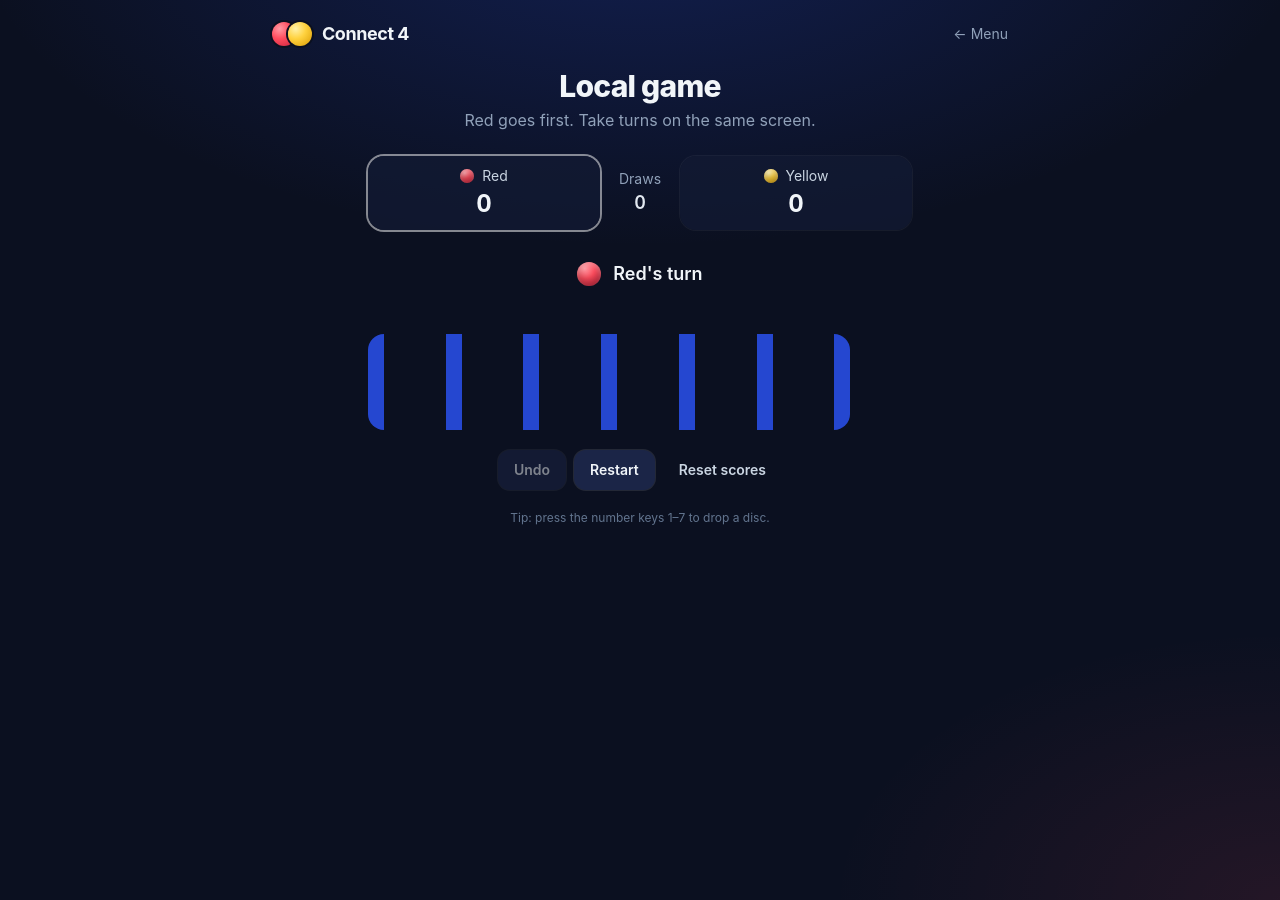
Test case: local game › disables a column once it is full
Click the button named "column 1" at (407, 374), box [368,318,446,430]
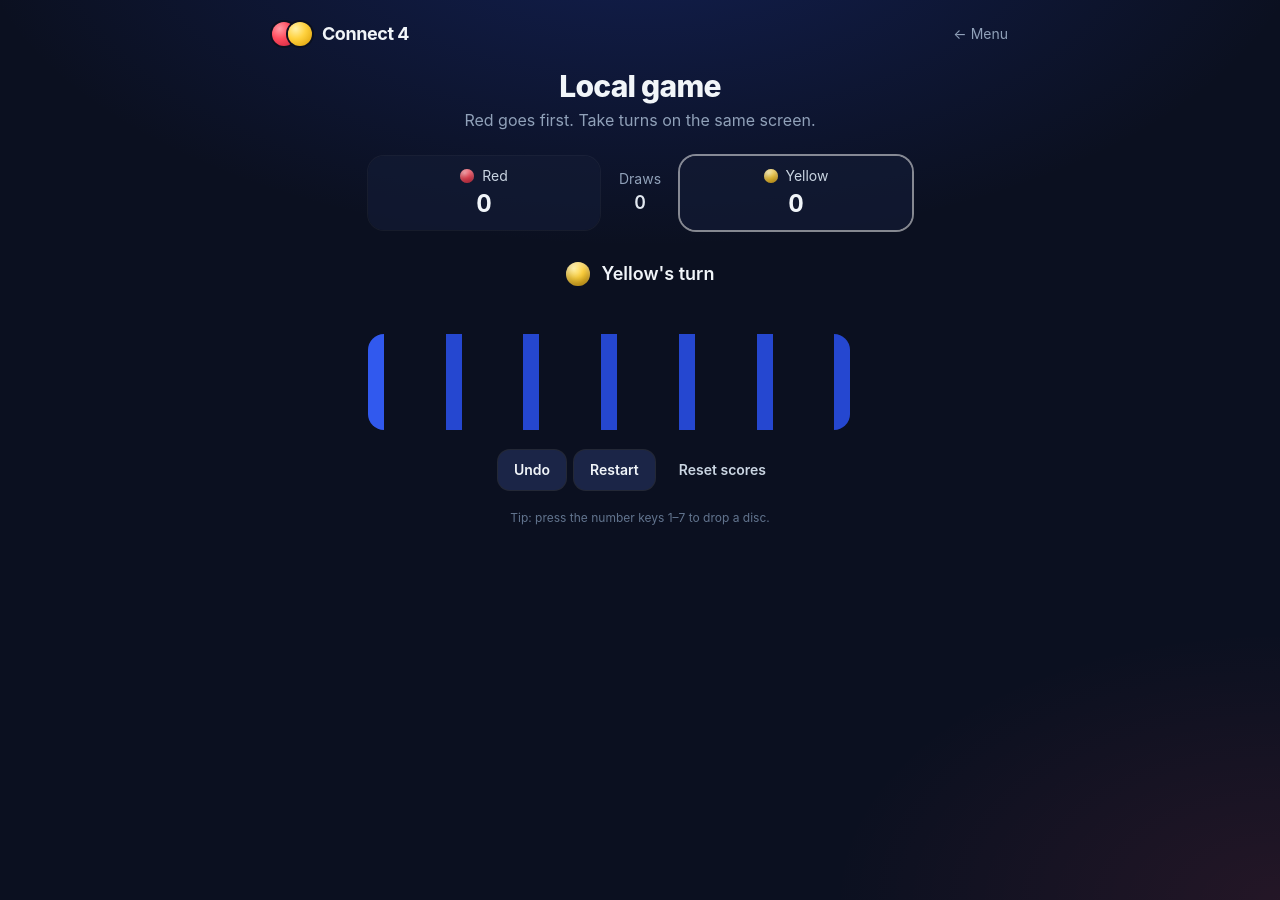
Click the button named "column 1" at (407, 374), box [368,318,446,430]
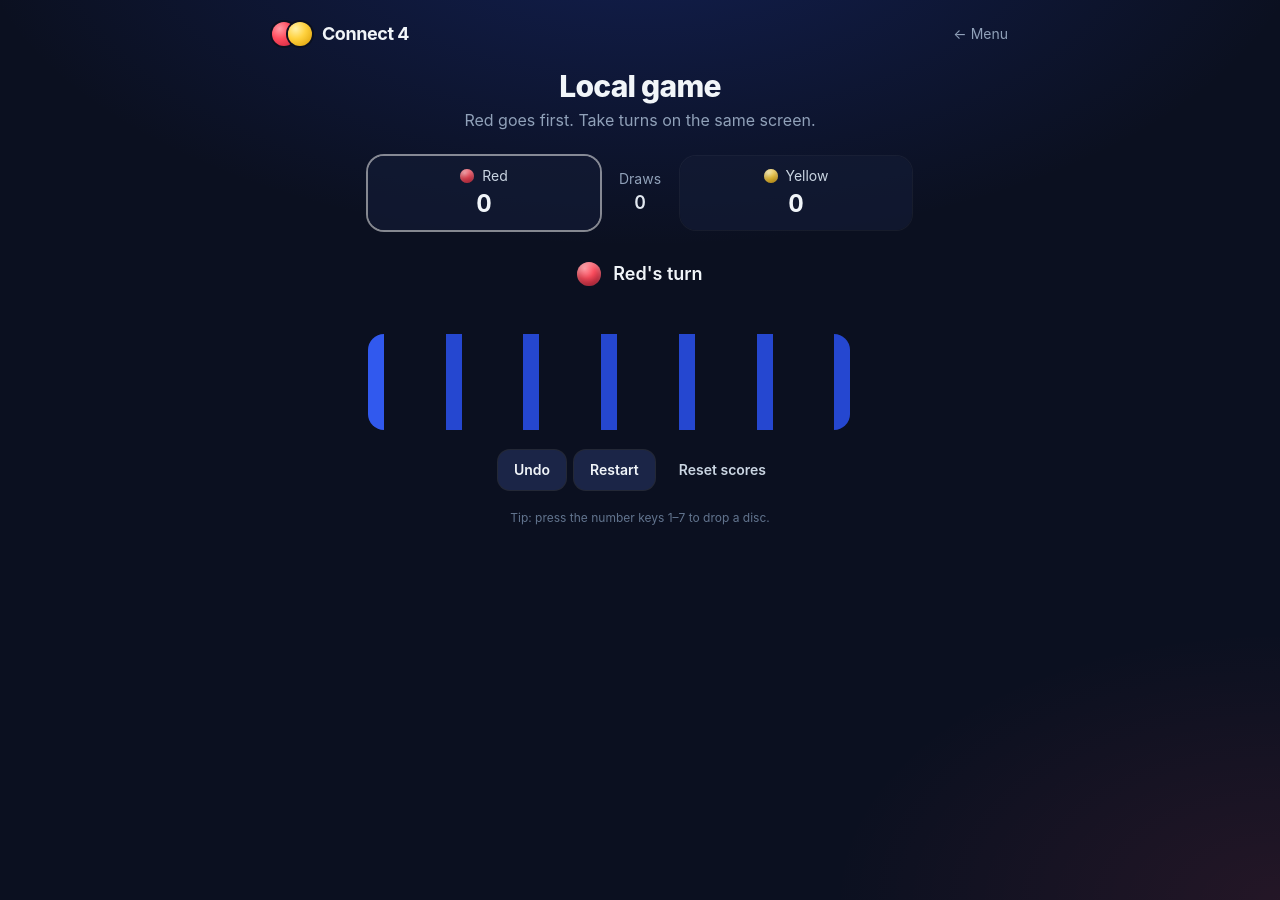
Click the button named "column 1" at (407, 374), box [368,318,446,430]
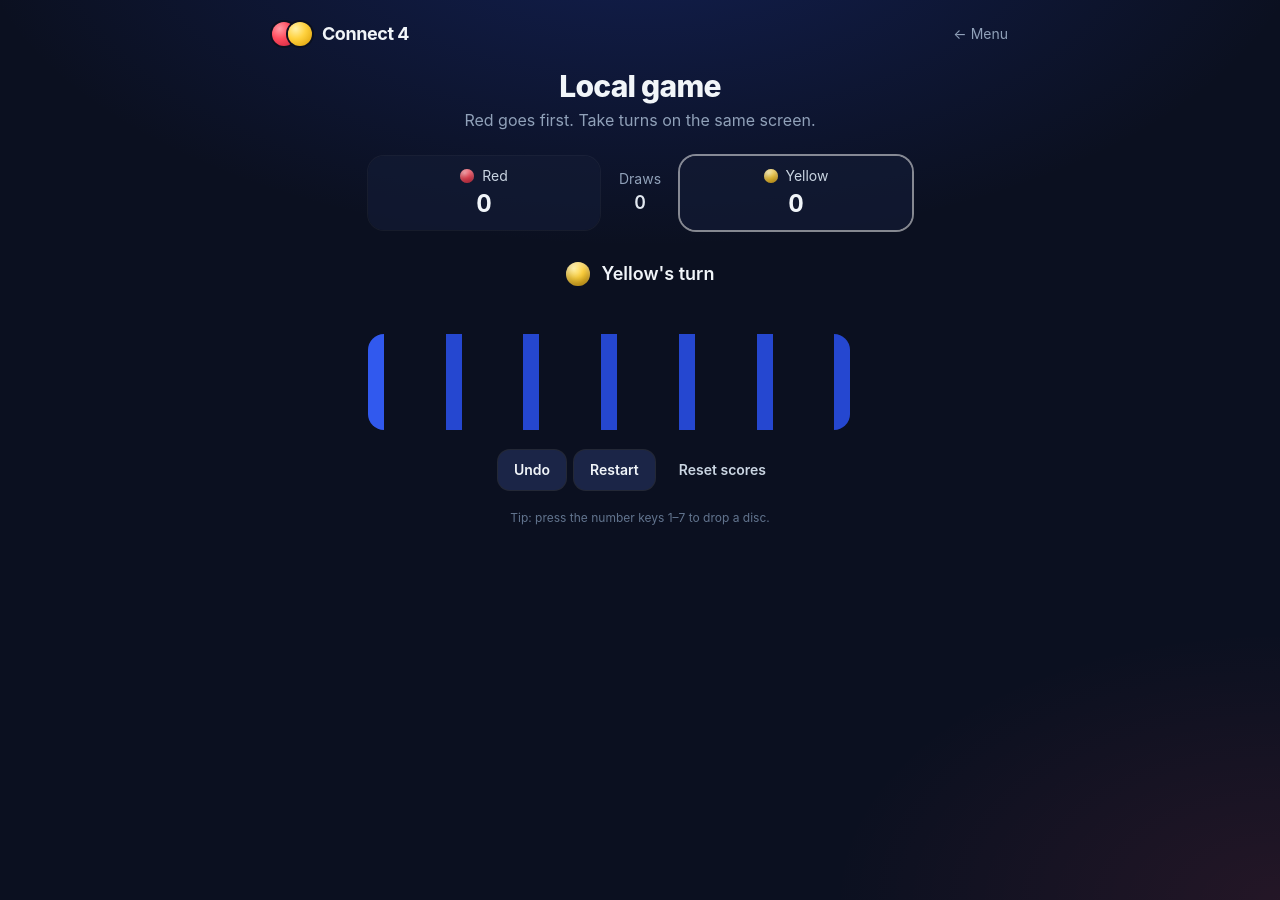
Click the button named "column 1" at (407, 374), box [368,318,446,430]
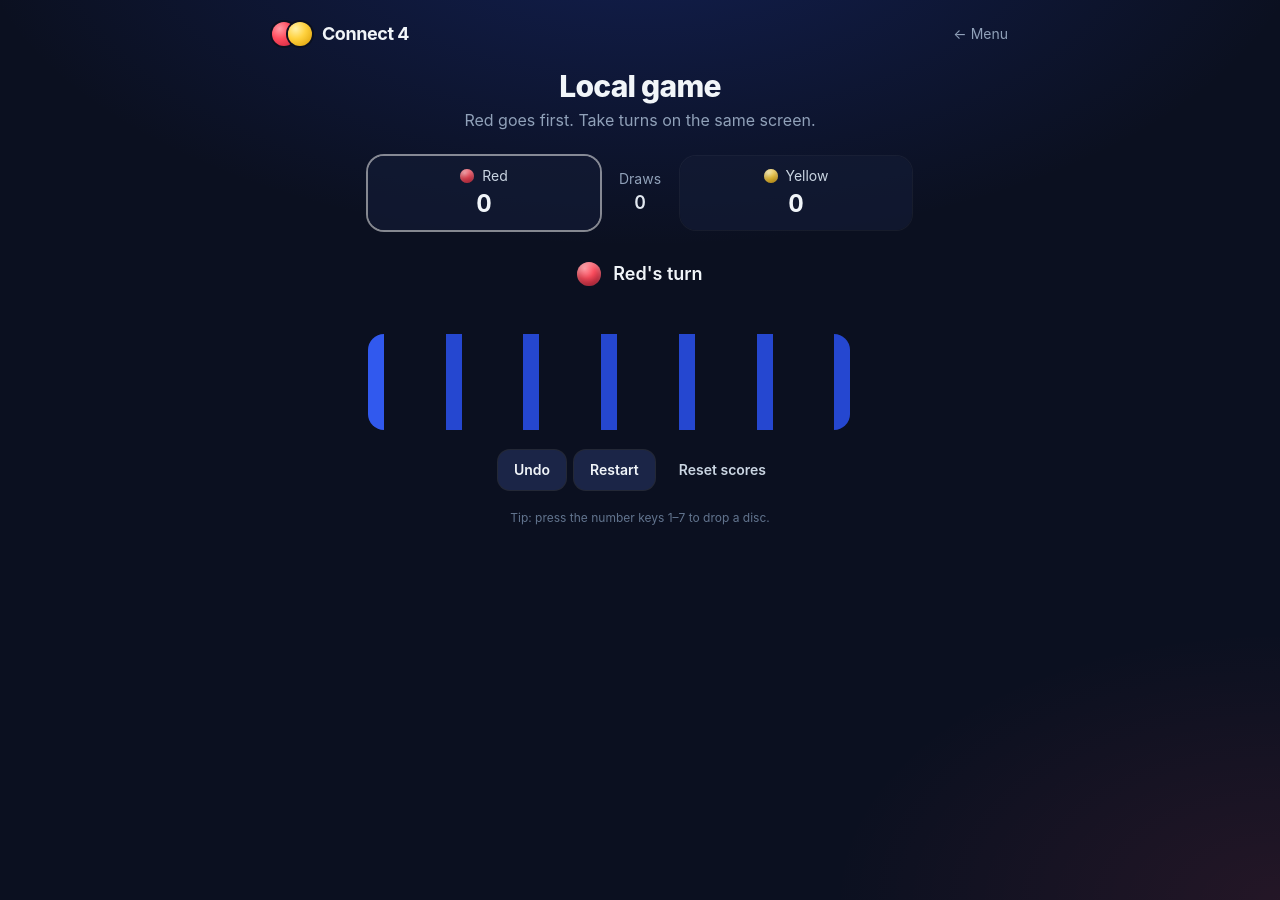
Click the button named "column 1" at (407, 374), box [368,318,446,430]
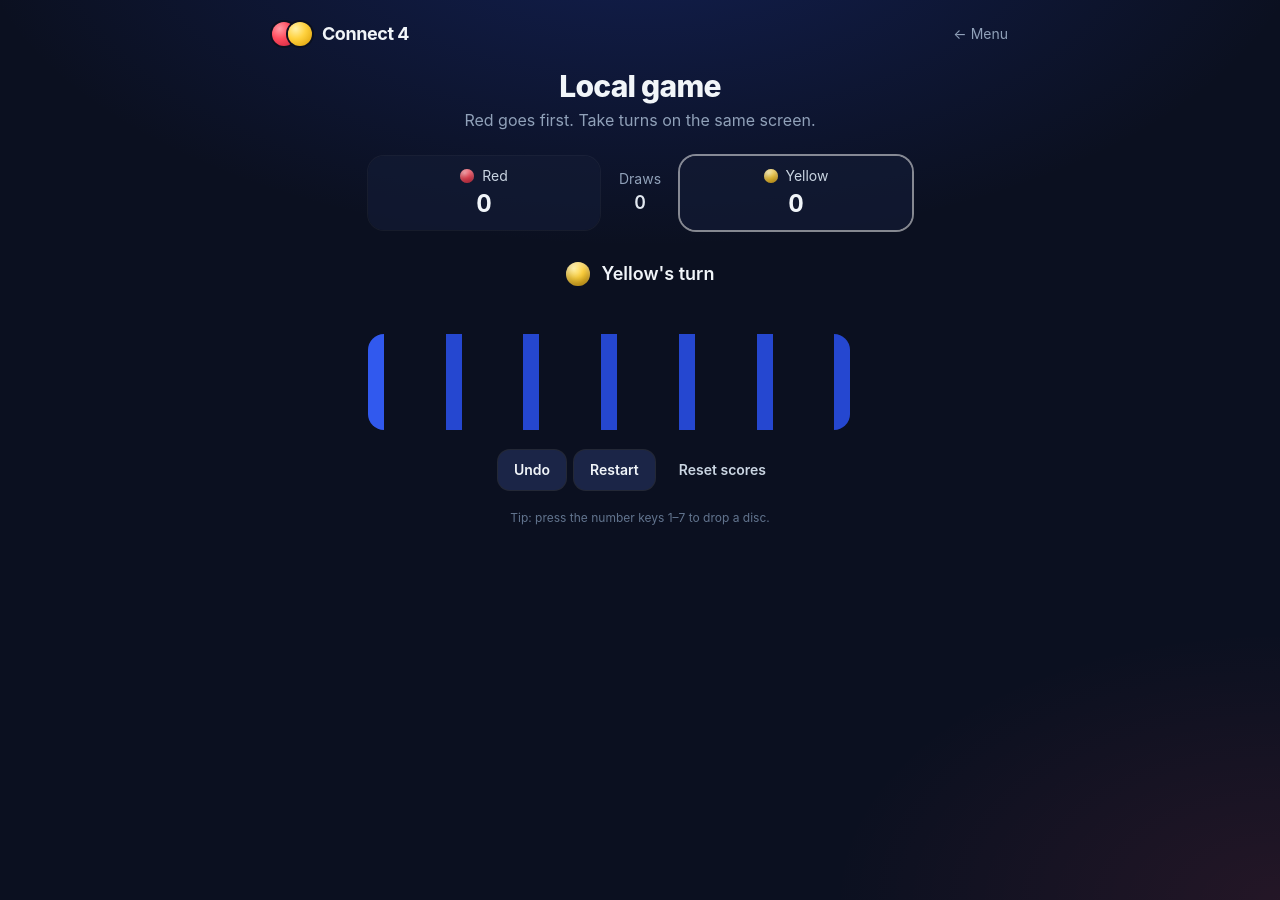
Click the button named "column 1" at (407, 374), box [368,318,446,430]
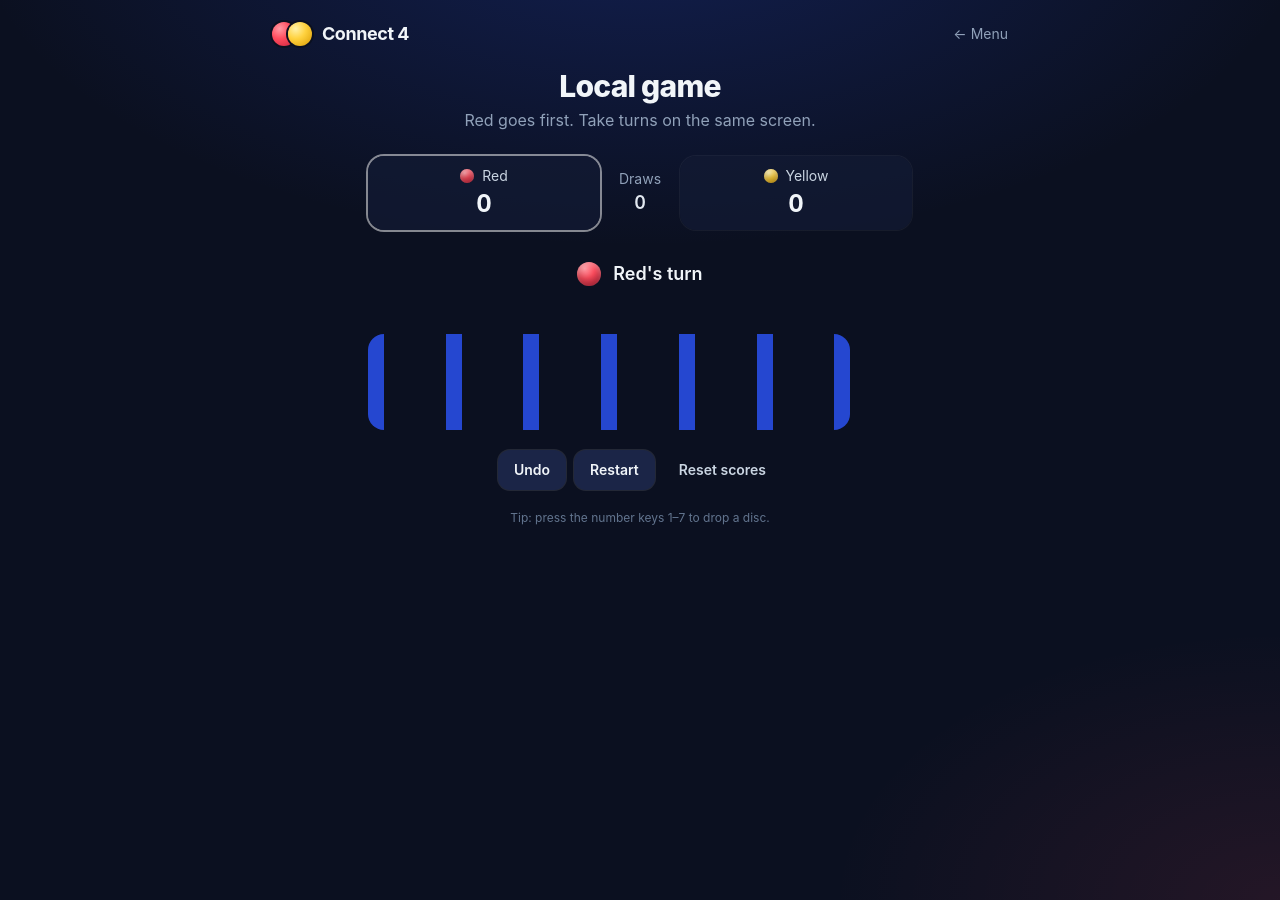
Expected: the button named "column 1 (full)" is disabled, [368,318,446,430]
